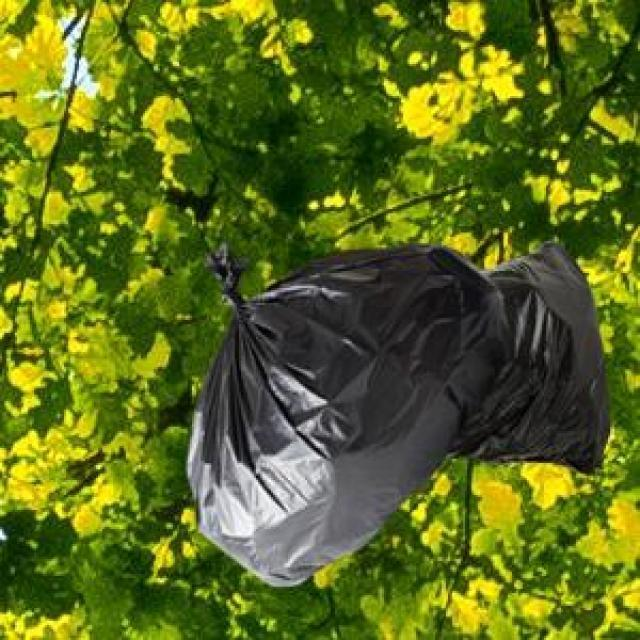waste: (188, 250, 502, 584), (471, 248, 615, 474)
